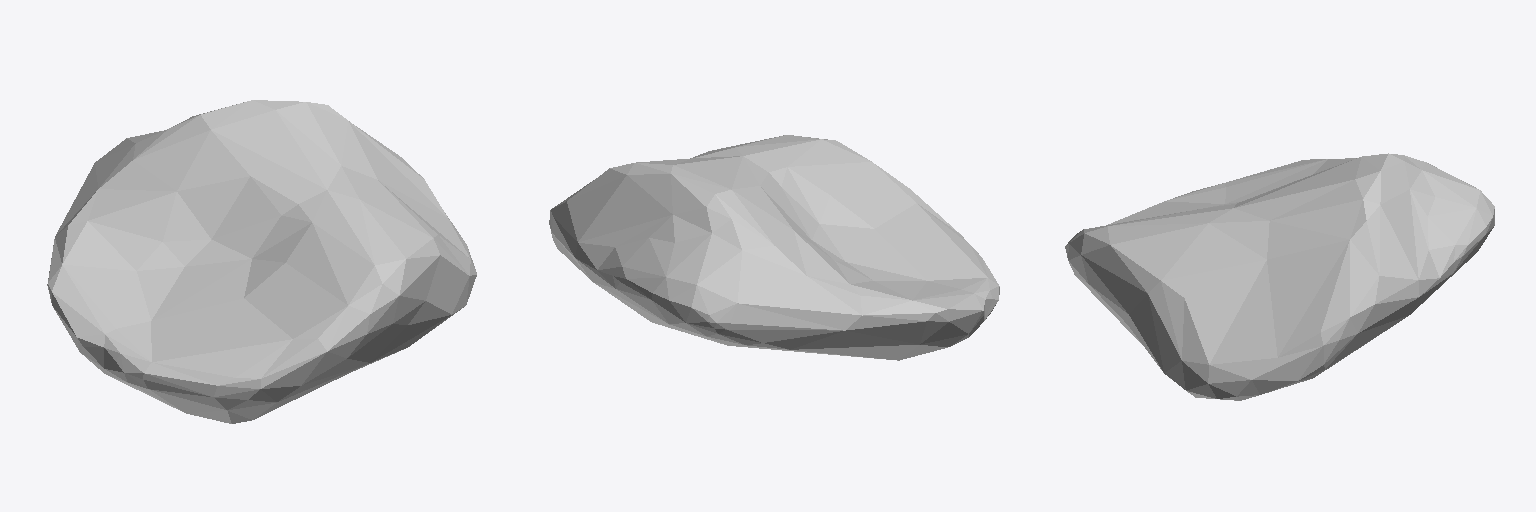
The model's file is right patella.obj.
The picture shows the model from 3 angles: view 1: azimuth 30°, elevation 25°; view 2: azimuth 150°, elevation 25°; view 3: azimuth 270°, elevation 25°; orthographic projection.
Visible parts, largest first — view 1: grp1; view 2: grp1; view 3: grp1.
Part boxes in pixels (left/top/right/bottom): grp1: left=47, top=100, right=476, bottom=423; grp1: left=549, top=135, right=999, bottom=360; grp1: left=1065, top=153, right=1494, bottom=400.
Size of the model in its own units: 41.67 by 21.73 by 39.31.